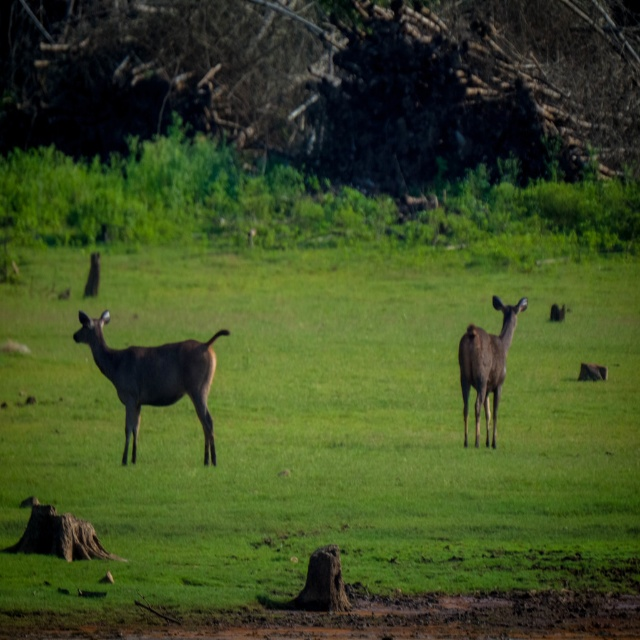Deer: (73, 309, 232, 468), (460, 296, 529, 447)
